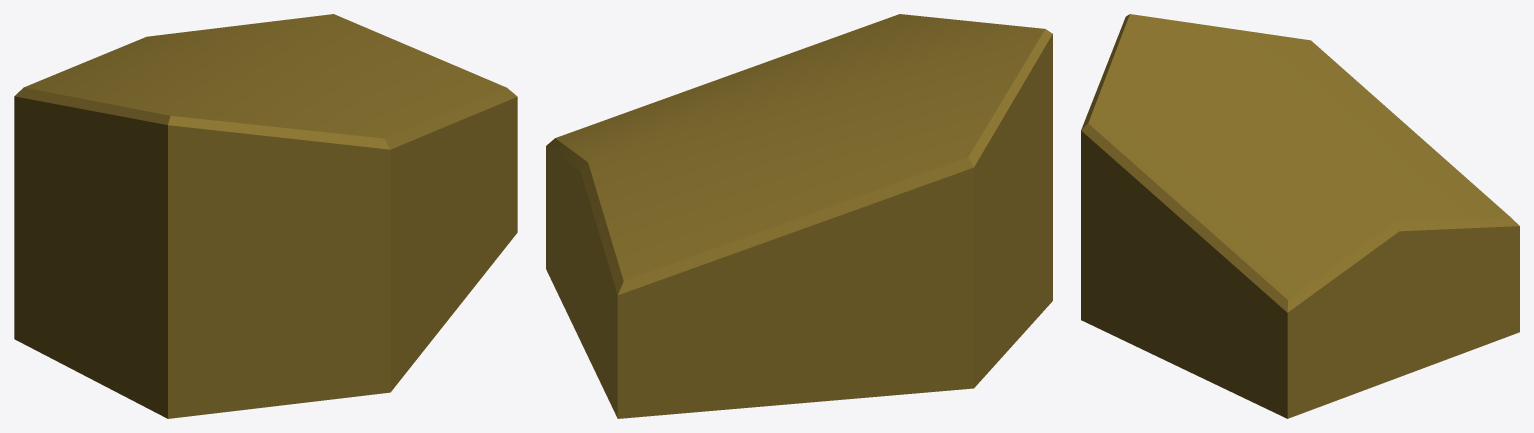
Rendered from Rock_Medium_1.FBX.
3 renders of one model, left to right at view 1: azimuth 30°, elevation 25°; view 2: azimuth 150°, elevation 25°; view 3: azimuth 270°, elevation 25°, orthographic. The views are drawn at different scales.
Visible parts, largest first — view 1: Rock_Medium_1; view 2: Rock_Medium_1; view 3: Rock_Medium_1.
Part boxes in pixels (x1,y1,x2,y2): Rock_Medium_1: (14, 14, 517, 418); Rock_Medium_1: (546, 14, 1052, 418); Rock_Medium_1: (1081, 14, 1519, 418).
Size of the model in its own units: 9.3 by 5.47 by 9.29.
